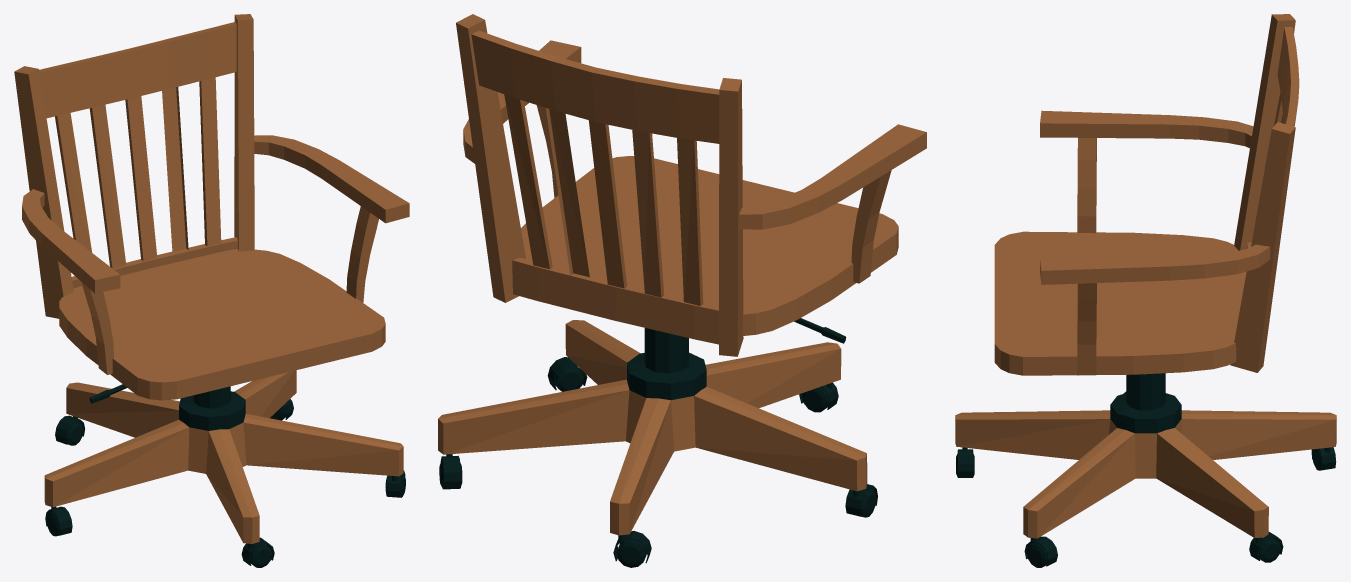
The model's file is chair-by-cmht-oculus-83sHAj2QuMA.glb.
3 renders of one model, left to right at view 1: azimuth 30°, elevation 25°; view 2: azimuth 150°, elevation 25°; view 3: azimuth 270°, elevation 25°, orthographic. The views are drawn at different scales.
Parts seen in each view (by area): view 1: Node; view 2: Node; view 3: Node.
Part boxes in pixels (box(x1,y1,x2,y2)): Node: box(14, 14, 409, 567); Node: box(438, 14, 926, 567); Node: box(955, 14, 1336, 567).
Bounding box in the file's own units: 32.76 × 40.16 × 32.99.
